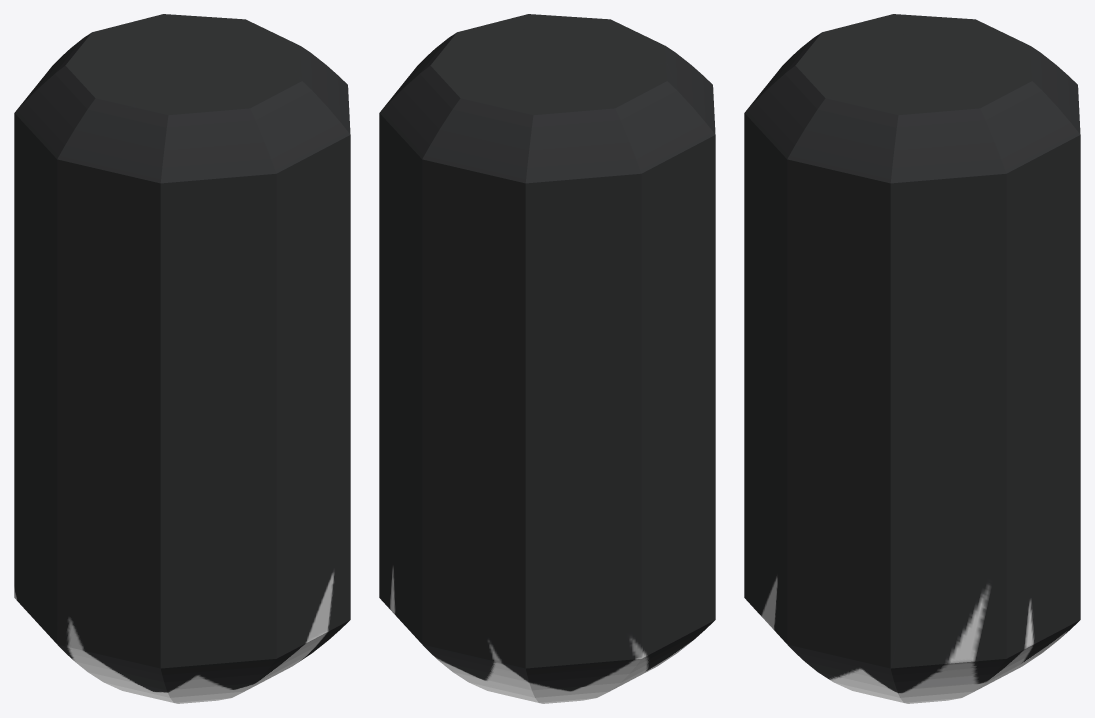
File: doll.glb
3 renders of one model, left to right at view 1: azimuth 30°, elevation 25°; view 2: azimuth 150°, elevation 25°; view 3: azimuth 270°, elevation 25°, orthographic.
Size of the model in its own units: 0.9018 by 1.83 by 0.8914.
1 material, 1 textured.
